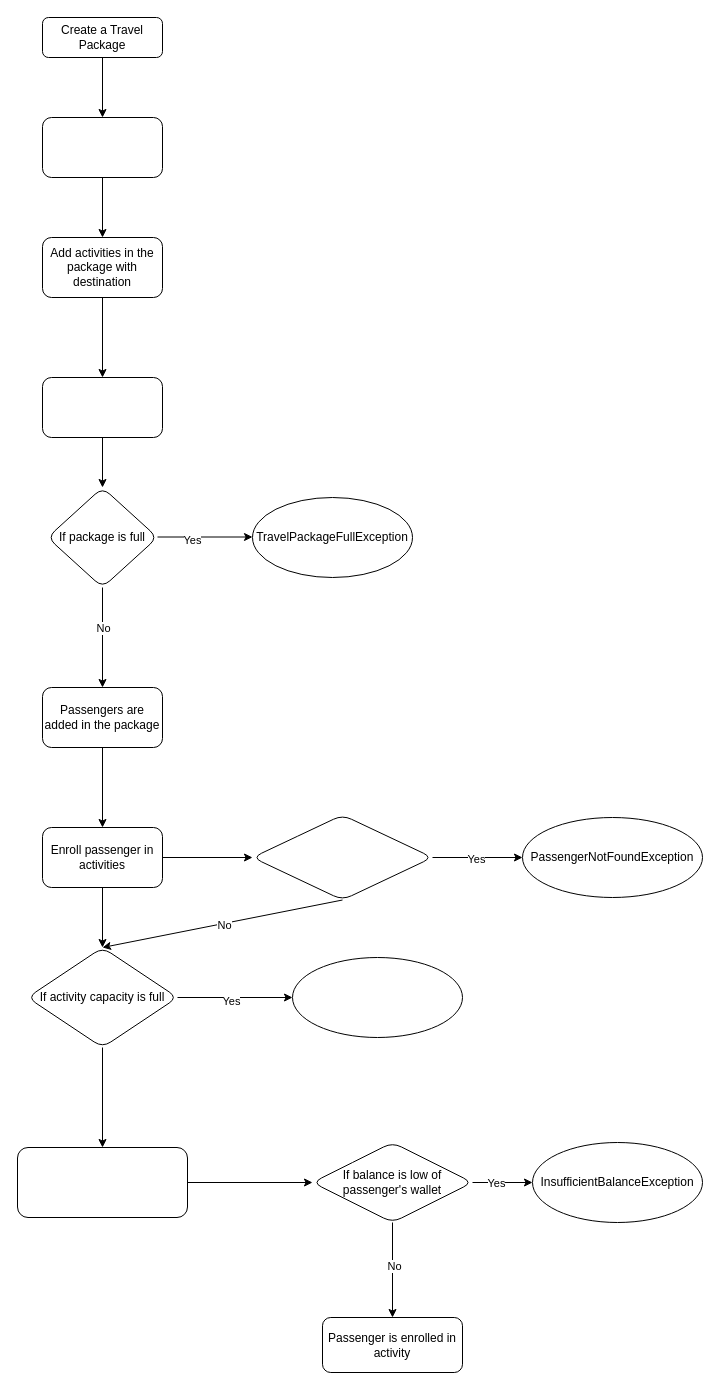
This 720x1390 diagram has some shape labels left out. Each missing label, with the box of its shape:
Activity Full exception: (292, 956, 462, 1038)
Add destinations to the package: (42, 116, 162, 178)
Add passengers in the package: (42, 376, 162, 438)
Deduct cost from passenger's balance: (16, 1146, 188, 1218)
If passenger not found in package: (252, 814, 432, 900)
